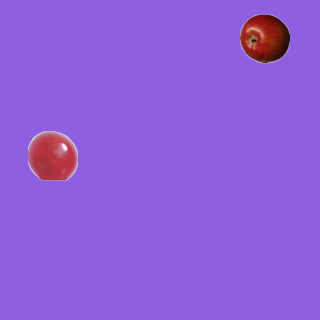Apple Braeburn: (239, 13, 289, 63)
Redcurrant: (27, 130, 77, 180)
